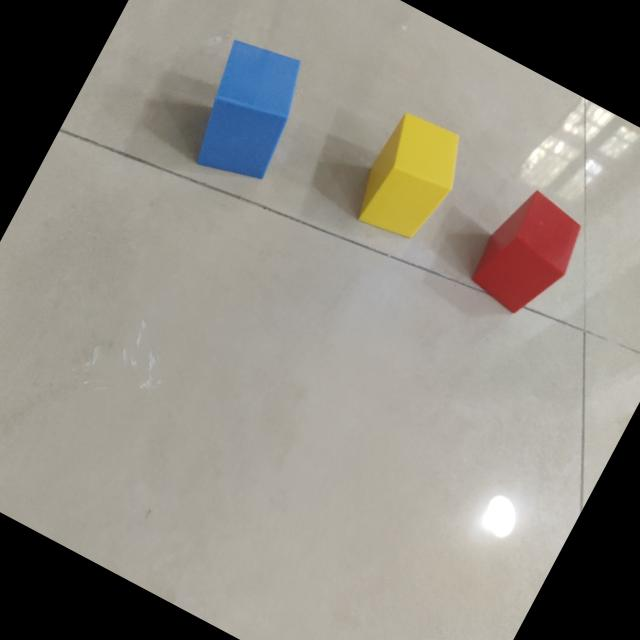blue: (195, 40, 300, 181)
red: (470, 191, 581, 316)
yellow: (355, 114, 459, 240)
